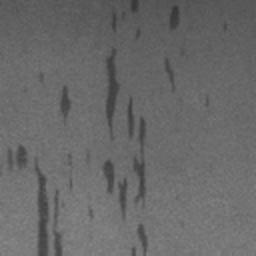Red iron sheet: (8, 145, 61, 256), (102, 97, 147, 219), (105, 47, 120, 141), (132, 225, 147, 256), (60, 86, 72, 123), (164, 56, 175, 92), (168, 5, 180, 31), (110, 10, 119, 31), (129, 0, 138, 14), (136, 28, 141, 41)
